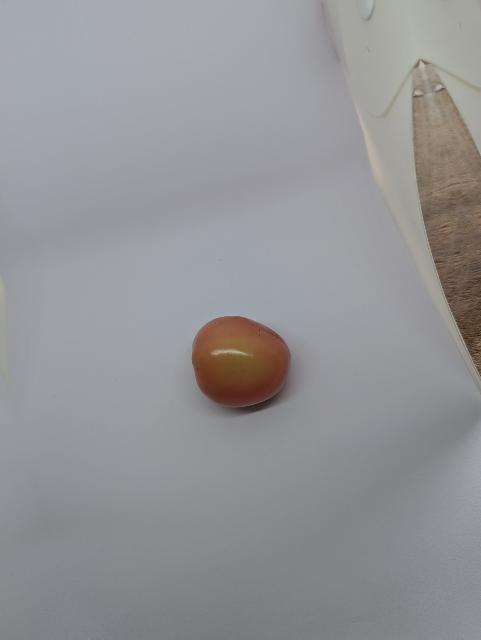turning: (188, 308, 302, 418)
